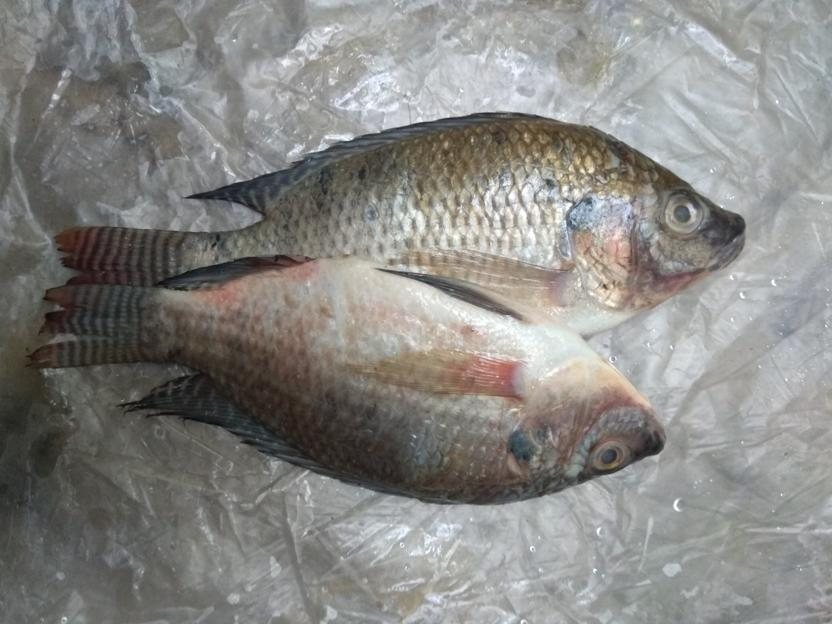Fish head: (564, 160, 747, 313), (511, 360, 668, 501)
Fish tail: (22, 282, 176, 371), (53, 225, 201, 282)
